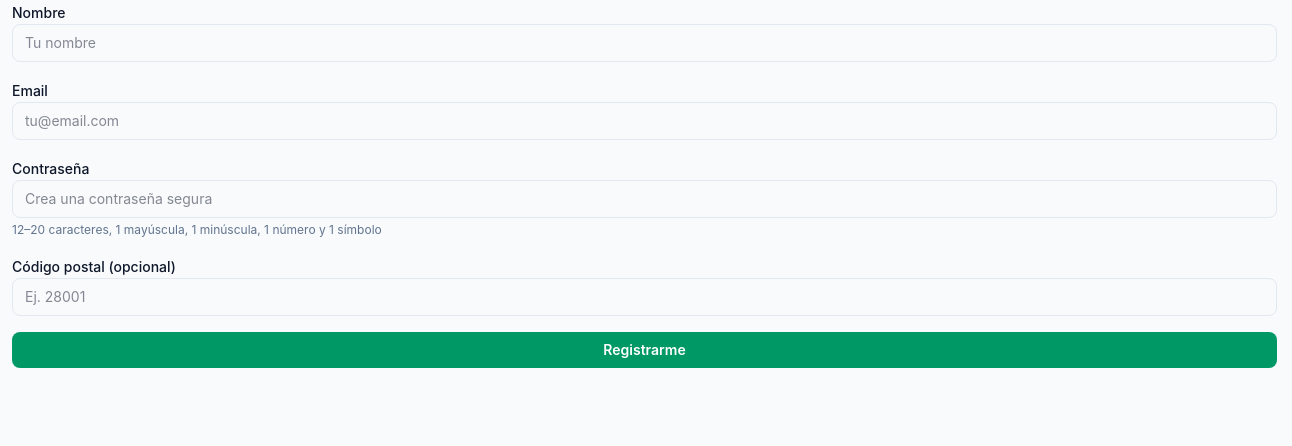
RegisterForm › marks fields as touched and shows errors on submit
The width and height of the screenshot is (1292, 446).
Click the button "Registrarme".
click(644, 350)  # box [12, 332, 1277, 368]
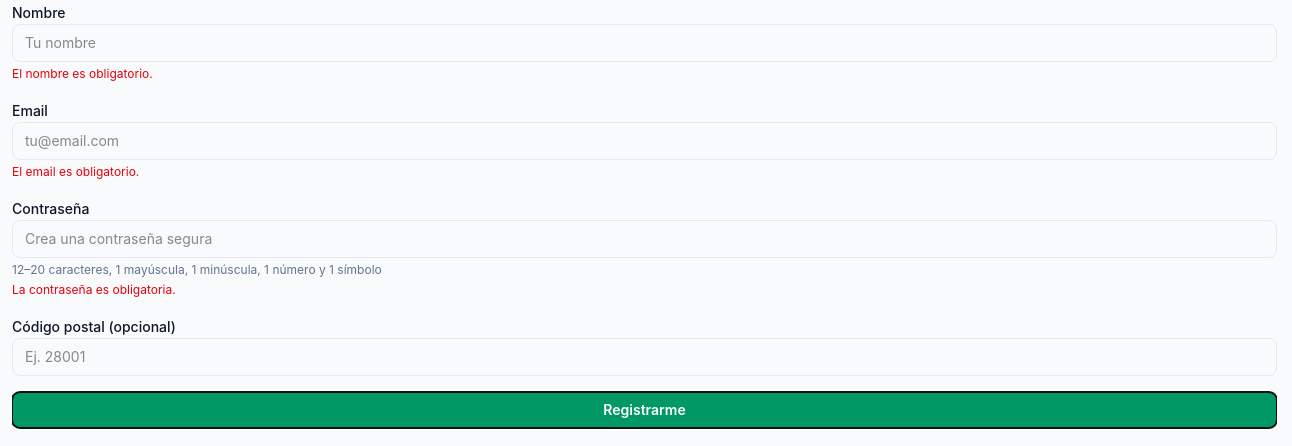
Expected: the text "El nombre es obligatorio." is shown, [12, 66, 153, 81]
Expected: the text "El email es obligatorio." is shown, [12, 164, 139, 179]
Expected: the text "La contraseña es obligatoria." is shown, [12, 282, 176, 297]
